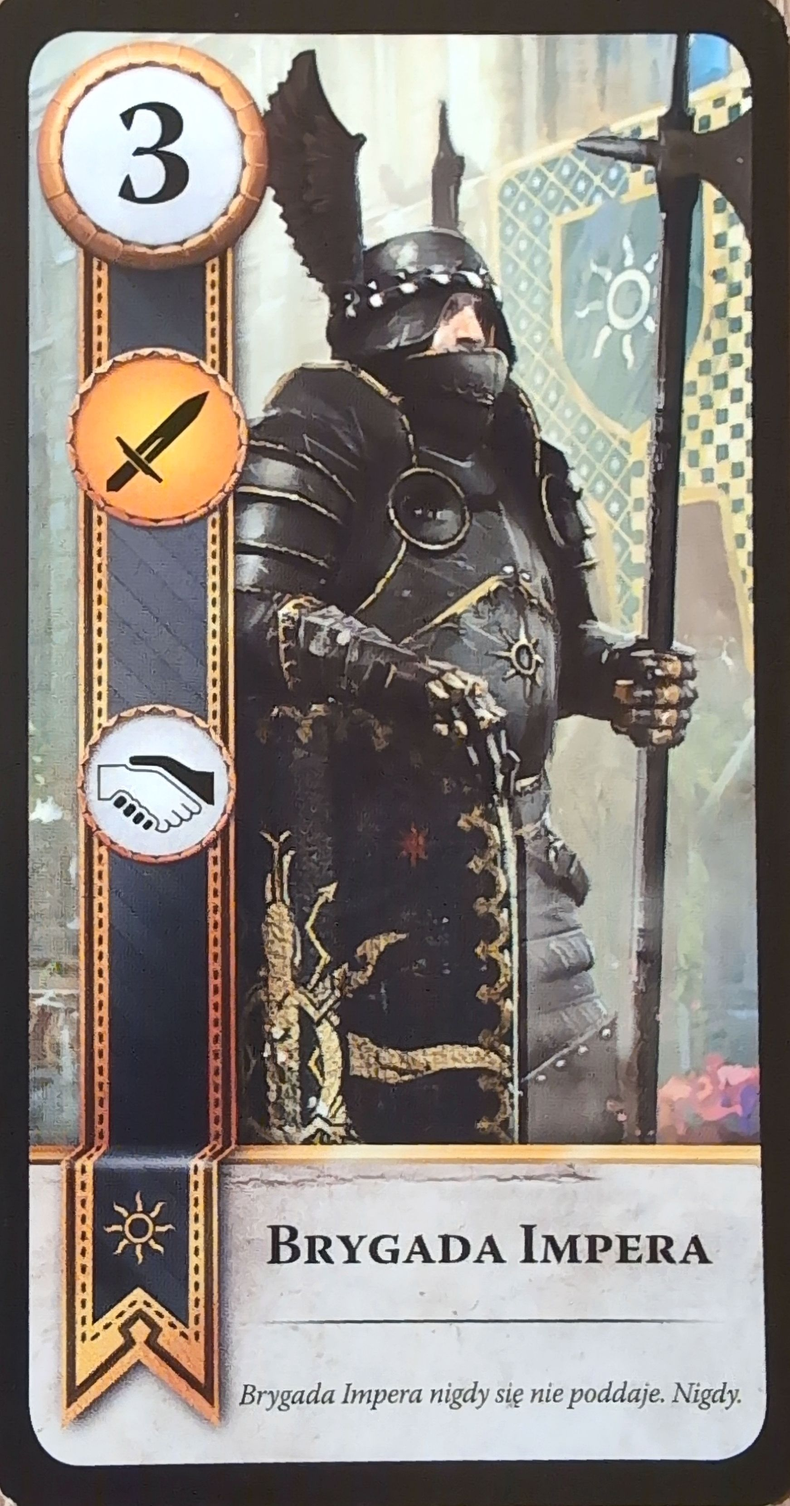3: (36, 44, 271, 269)
miecz: (65, 345, 248, 531)
wiez: (77, 700, 237, 866)
